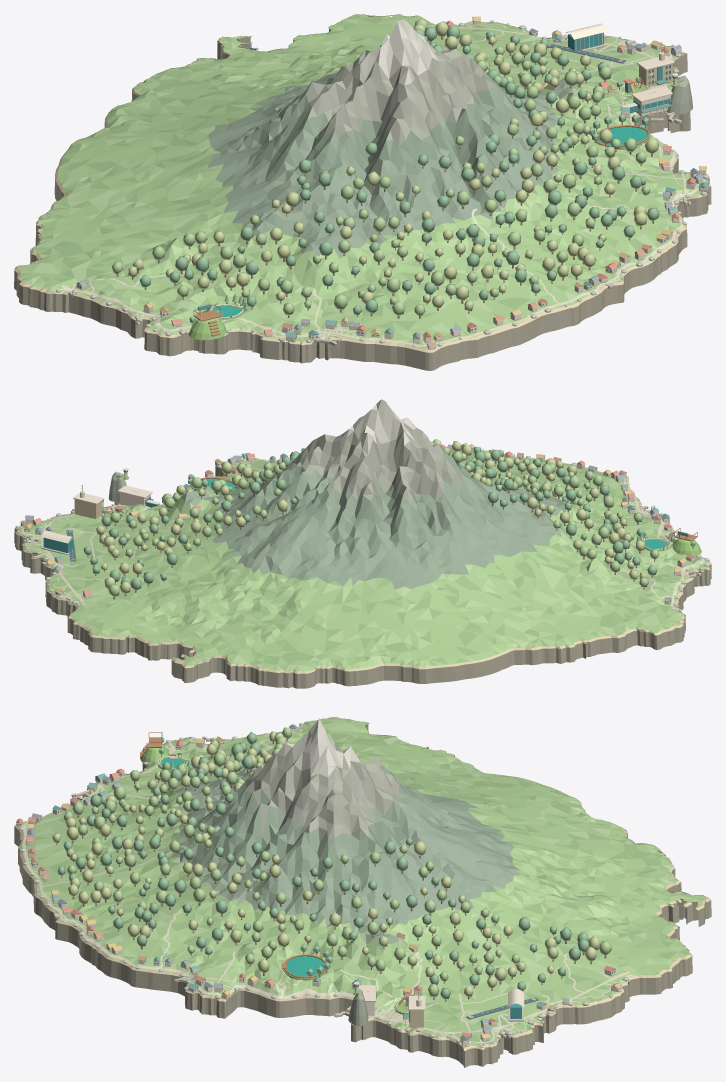
Rendered from rishiri-miniature-mobile.glb.
The picture shows the model from 3 angles, top to bottom: view 1: azimuth 30°, elevation 25°; view 2: azimuth 150°, elevation 25°; view 3: azimuth 270°, elevation 25°; orthographic projection. The views are drawn at different scales.
Visible parts, largest first — view 1: Terrain_Meadow_Sage_Mint_Mountain_Highland_Summit, Terrain_Cliff, Vegetation_LeavesSage, Vegetation_LeavesMint, Vegetation_LeavesLime, Roads_Road, Terrain_Sand, Buildings_Walls, Vegetation_Trunk, Terrain_Rock, Buildings_RoofCoral, Buildings_RoofButter (+5 smaller); view 2: Terrain_Meadow_Sage_Mint_Mountain_Highland_Summit, Terrain_Cliff, Vegetation_LeavesMint, Vegetation_LeavesLime, Vegetation_LeavesSage, Terrain_Sand, Roads_Road, Buildings_Walls, Vegetation_Trunk, Terrain_Rock, OshidomariFerryTerminal_Walls, Buildings_RoofCoral; view 3: Terrain_Meadow_Sage_Mint_Mountain_Highland_Summit, Terrain_Cliff, Vegetation_LeavesMint, Vegetation_LeavesSage, Vegetation_LeavesLime, Roads_Road, Terrain_Sand, Buildings_Walls, Vegetation_Trunk, Terrain_Rock, Buildings_RoofCoral, Buildings_RoofButter (+1 smaller).
Part boxes in pixels (<box>): Terrain_Meadow_Sage_Mint_Mountain_Highland_Summit: <box>17,14,707,349</box>; Terrain_Cliff: <box>14,29,711,370</box>; Vegetation_LeavesSage: <box>139,25,659,314</box>; Vegetation_LeavesMint: <box>112,18,650,315</box>; Vegetation_LeavesLime: <box>128,21,658,311</box>; Roads_Road: <box>58,22,705,346</box>; Terrain_Sand: <box>14,14,711,352</box>; Buildings_Walls: <box>76,20,708,349</box>; Vegetation_Trunk: <box>116,36,653,318</box>; Terrain_Rock: <box>56,20,708,347</box>; Buildings_RoofCoral: <box>171,20,695,346</box>; Buildings_RoofButter: <box>143,16,706,337</box>; Terrain_Meadow_Sage_Mint_Mountain_Highland_Summit: <box>18,399,708,671</box>; Terrain_Cliff: <box>14,466,711,688</box>; Vegetation_LeavesMint: <box>108,446,659,596</box>; Vegetation_LeavesLime: <box>96,439,646,593</box>; Vegetation_LeavesSage: <box>83,446,656,590</box>; Terrain_Sand: <box>14,450,711,673</box>; Roads_Road: <box>20,450,704,610</box>; Buildings_Walls: <box>24,448,694,604</box>; Vegetation_Trunk: <box>87,456,655,599</box>; Terrain_Rock: <box>15,449,709,611</box>; OshidomariFerryTerminal_Walls: <box>117,485,159,505</box>; Buildings_RoofCoral: <box>32,445,694,594</box>; Terrain_Meadow_Sage_Mint_Mountain_Highland_Summit: <box>19,717,708,1047</box>; Terrain_Cliff: <box>14,721,711,1067</box>; Vegetation_LeavesMint: <box>63,727,611,997</box>; Vegetation_LeavesSage: <box>57,732,589,999</box>; Vegetation_LeavesLime: <box>52,732,600,996</box>; Roads_Road: <box>21,724,632,1045</box>; Terrain_Sand: <box>14,717,710,1050</box>; Buildings_Walls: <box>16,728,620,1045</box>; Vegetation_Trunk: <box>56,738,606,1001</box>; Terrain_Rock: <box>19,723,628,1047</box>; Buildings_RoofCoral: <box>16,740,615,1036</box>; Buildings_RoofButter: <box>27,736,620,1037</box>.
Size of the model in its own units: 91.29 by 23.42 by 80.57.
